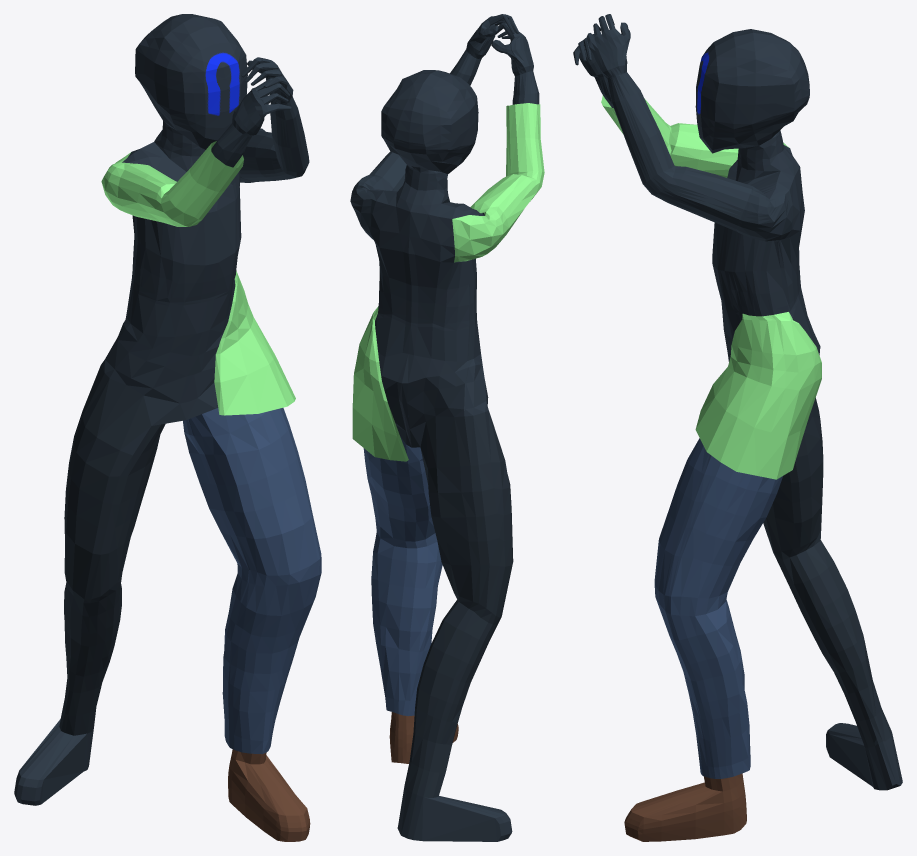
File: Mar_Attack_000007.obj
3 views of the same model, side by side, from view 1: azimuth 30°, elevation 25°; view 2: azimuth 150°, elevation 25°; view 3: azimuth 270°, elevation 25° (orthographic). The views are drawn at different scales.
Visible parts, largest first — view 1: Cube.000_Cube.001; view 2: Cube.000_Cube.001; view 3: Cube.000_Cube.001.
Part boxes in pixels (<box>): Cube.000_Cube.001: <box>14,14,321,841</box>; Cube.000_Cube.001: <box>350,14,544,841</box>; Cube.000_Cube.001: <box>573,14,902,841</box>.
Bounding box in the file's own units: 1.16 × 3.92 × 1.47.
